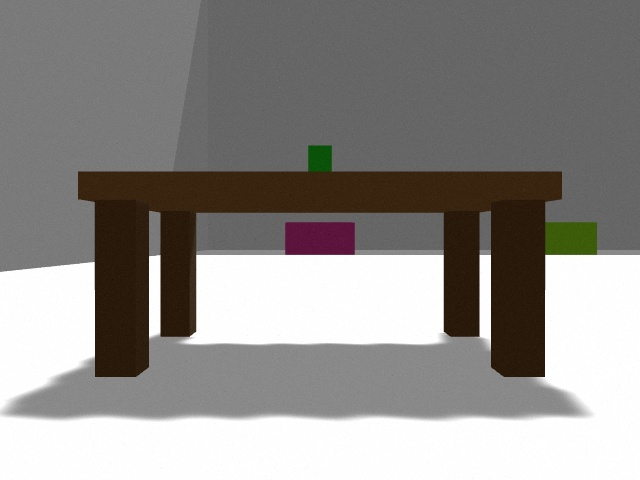green_cube: (308, 145, 332, 171)
green_drop_zone: (546, 222, 597, 255)
red_drop_zone: (285, 222, 355, 255)
